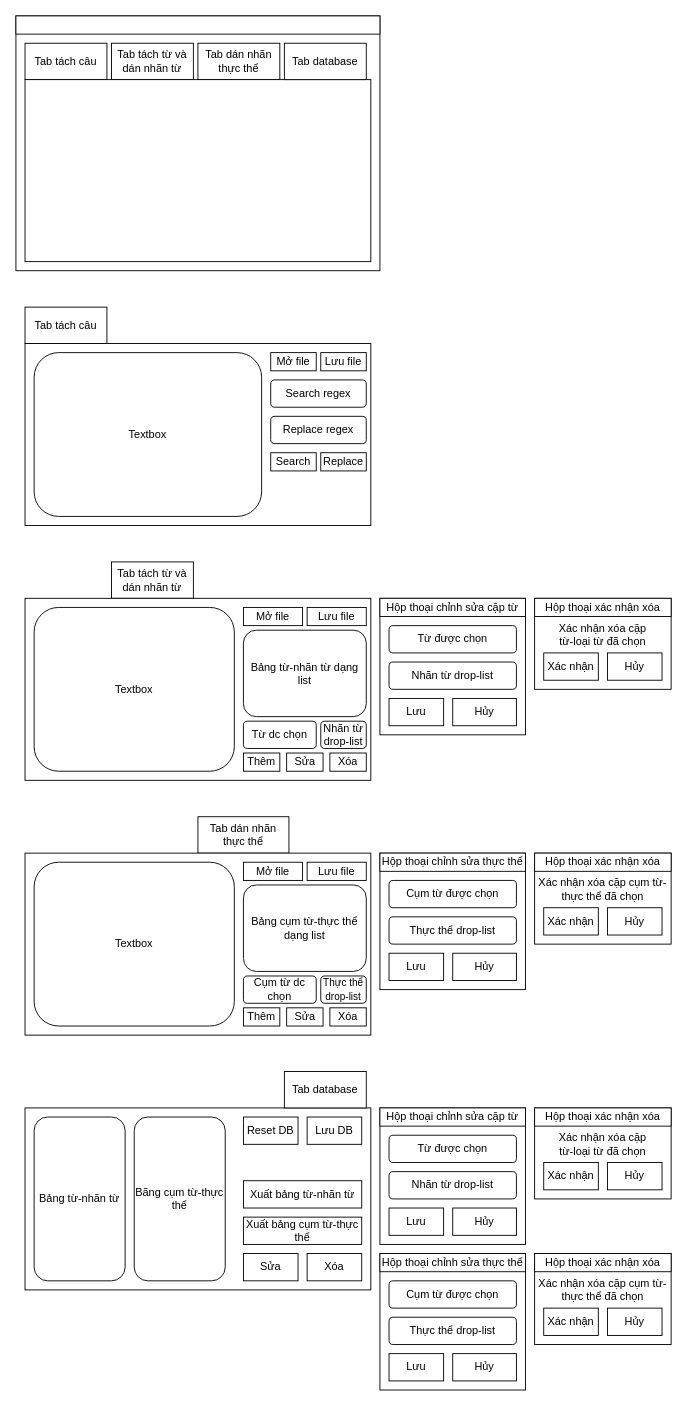
This 687x1406 diagram has some shape labels left out. Each missing label, with the centre of its shape:
"Nội dung tab" goes at point (197, 170).
"Thanh tiêu đề" goes at point (197, 24).
